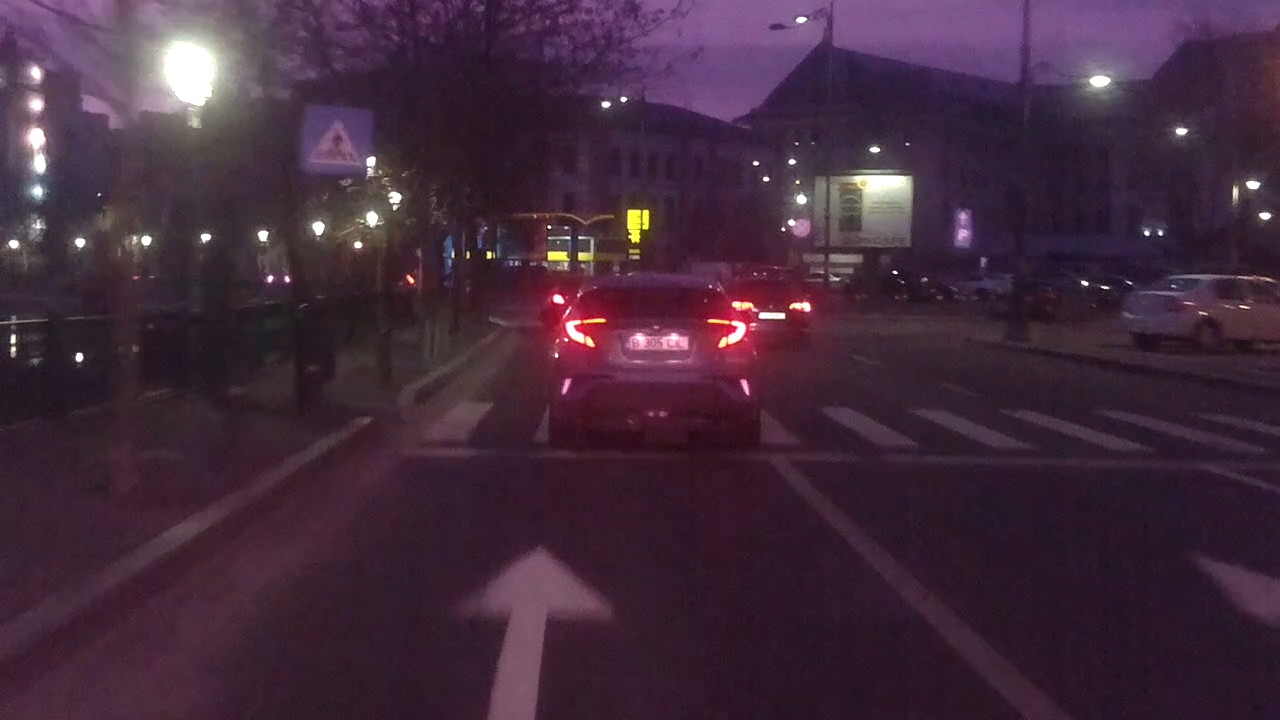license-plate: (622, 333, 691, 353)
